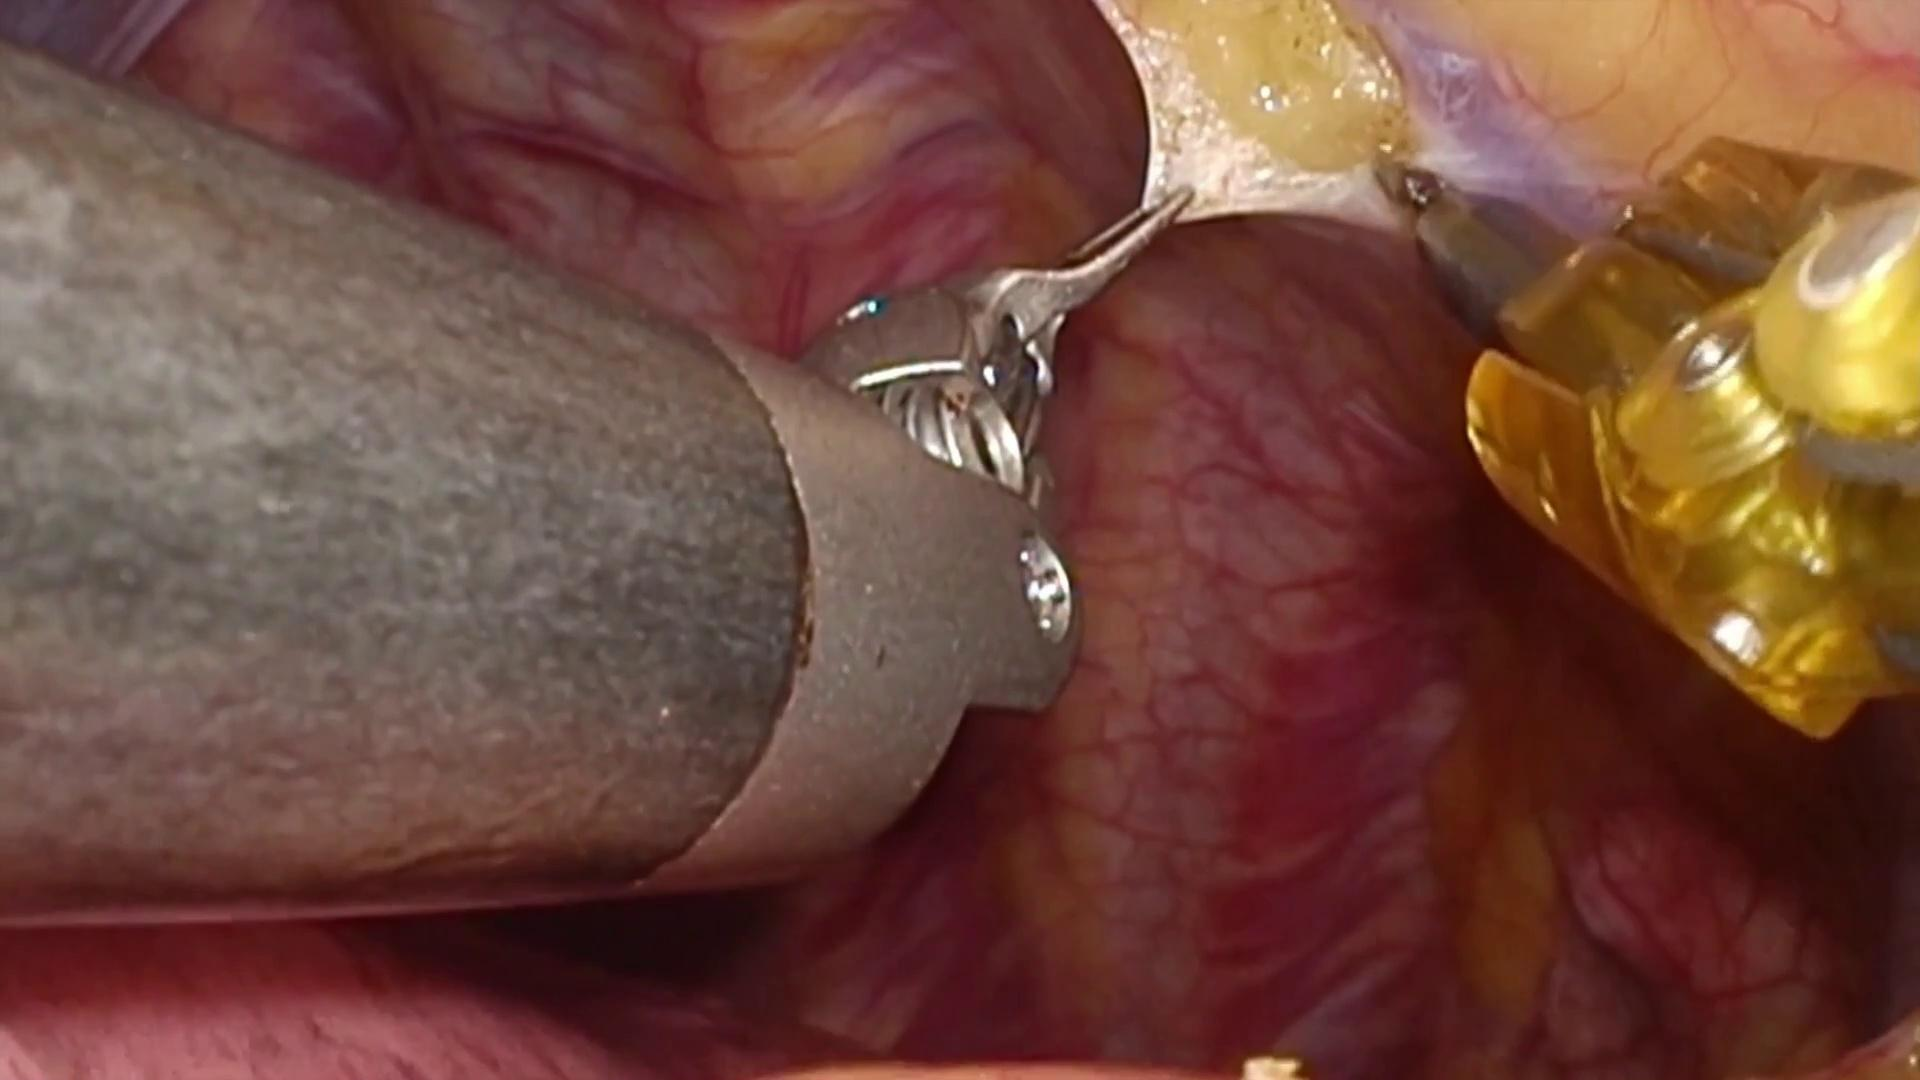Cautery_Spatula: (1352, 136, 1590, 336), (1354, 136, 1464, 228)
Debakey: (971, 175, 1199, 386)
